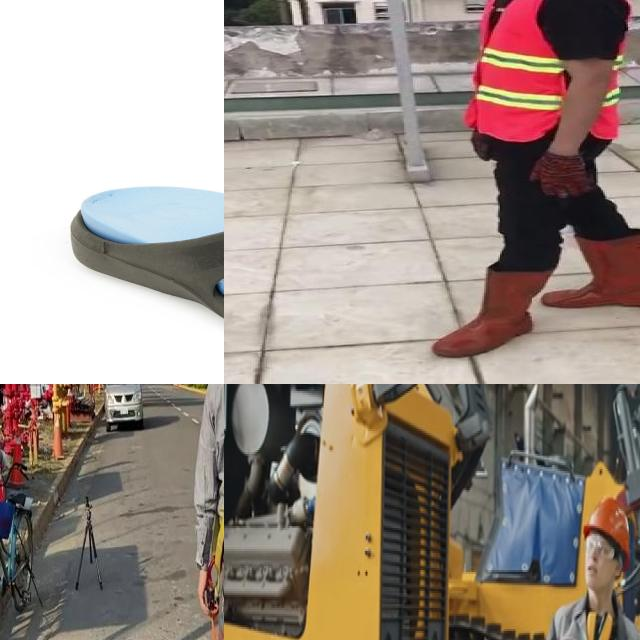Ear-protection: (582, 599, 617, 640)
Sandals: (66, 177, 224, 370)
boots: (430, 269, 550, 358), (551, 233, 640, 308)
glasses: (585, 529, 621, 569)
head_helmet: (579, 459, 634, 568)
person: (426, 0, 640, 362), (544, 450, 640, 640)
vest: (468, 0, 623, 137)
